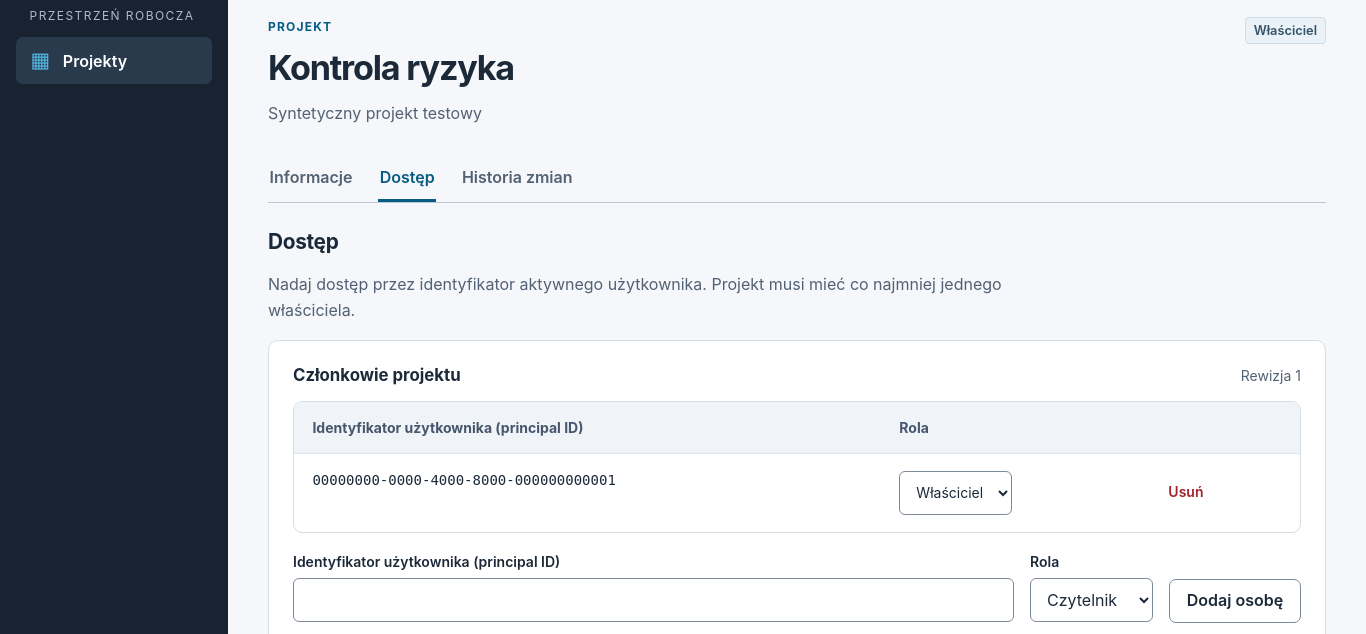
Test case: SPEC-0001 access policy and SPEC-0017 conflict/revocation UI › sends owner access update with the received ETag, and refuses removal of the last owner locally
Type "00000000-0000-4000-8000-000000000002" into the field labelled "Identyfikator użytkownika (principal ID)".
click(654, 600); type("00000000-0000-4000-8000-000000000002")  # box [293,578,1014,622]
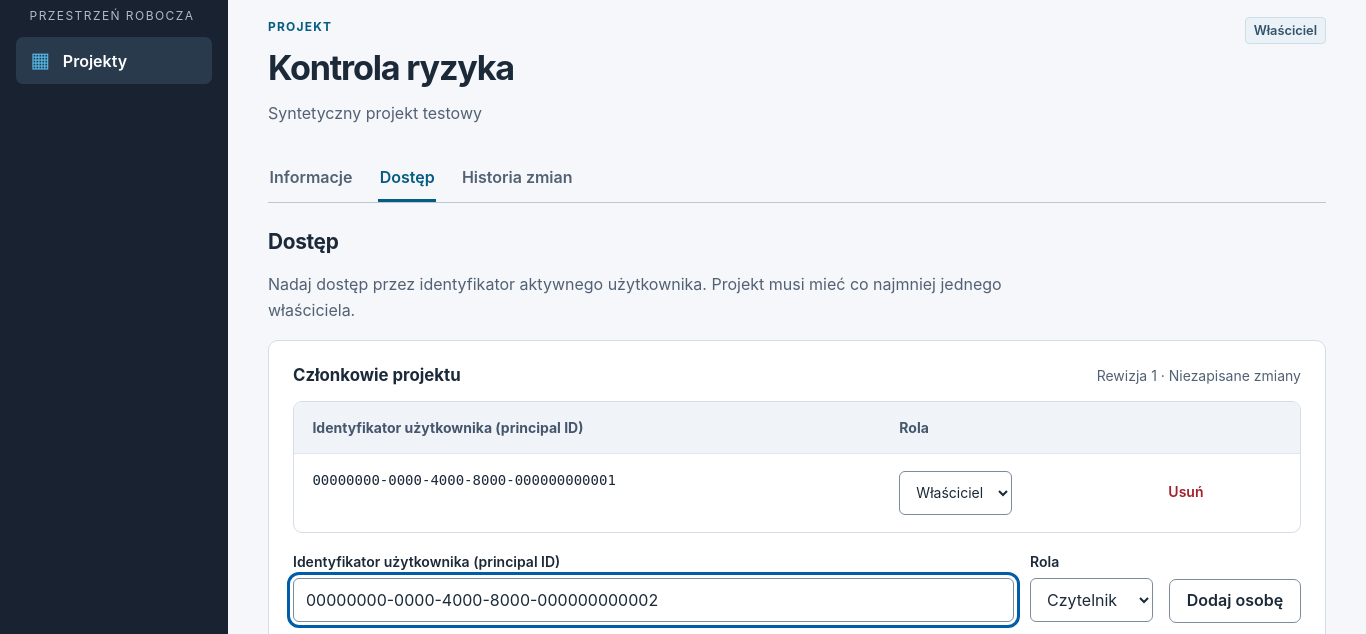
Click the button "Dodaj osobę".
click(1235, 601)  # box [1169,579,1301,623]
(page scrolled)
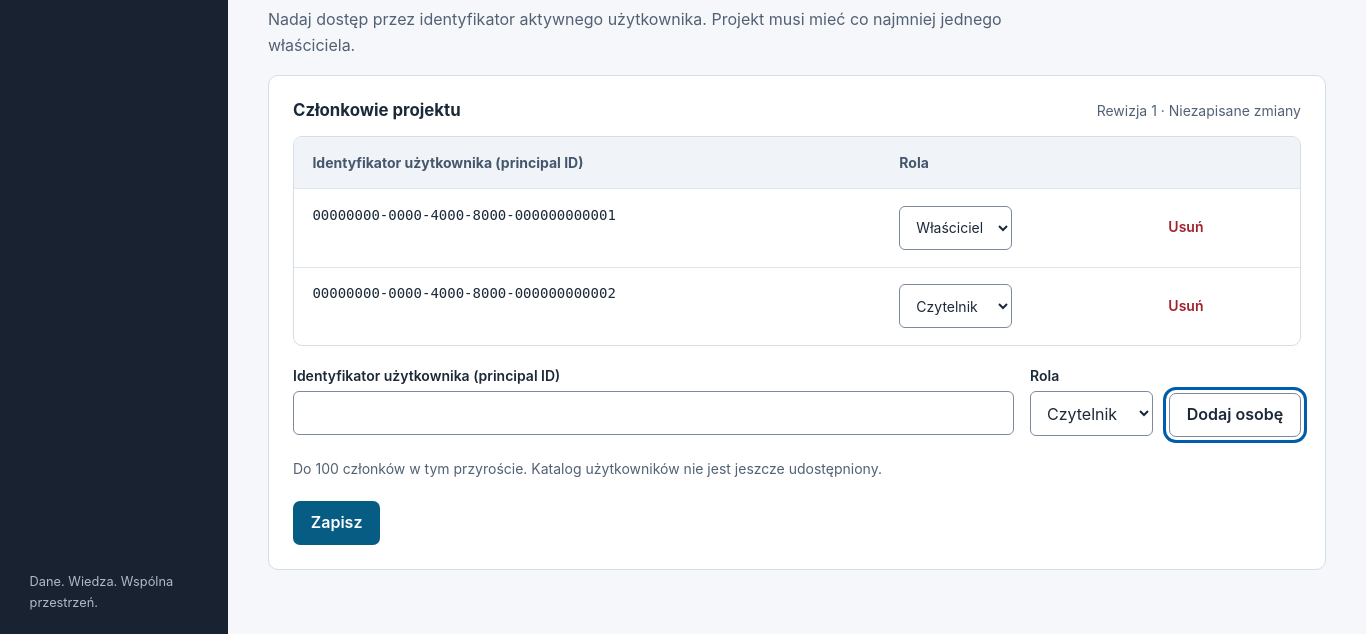
Click the button "Zapisz".
click(337, 523)  # box [293,501,380,545]
(page scrolled)
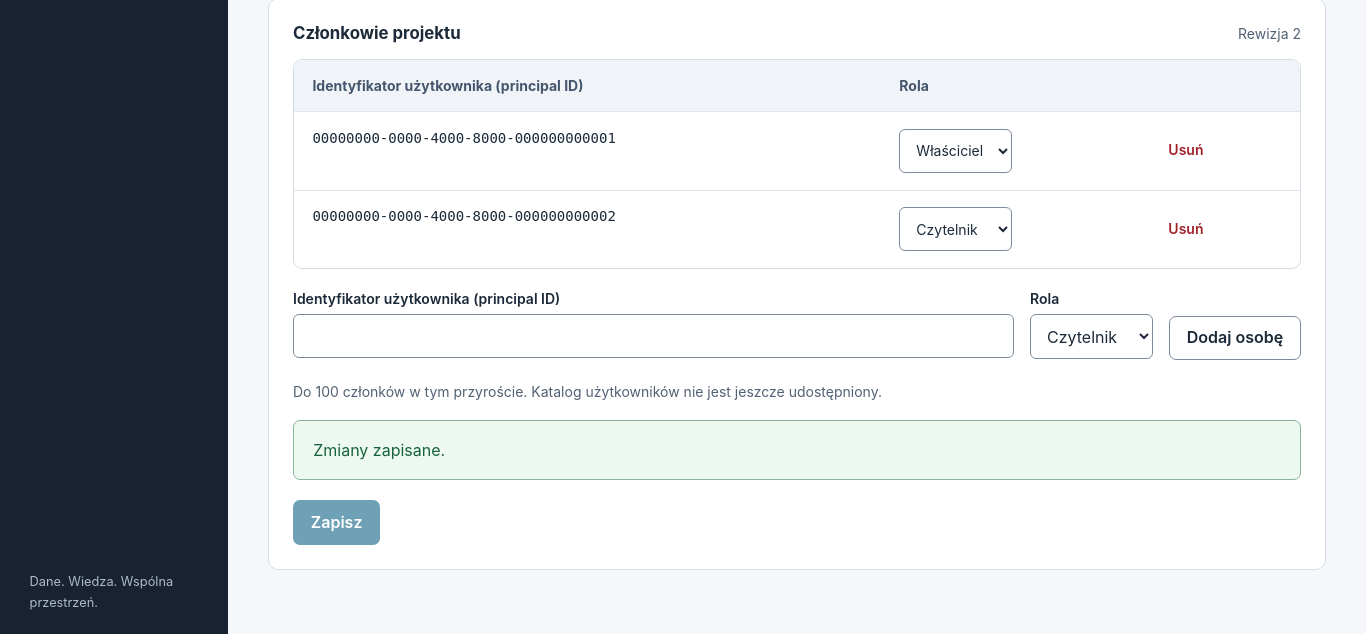
Check: the text "Zmiany zapisane." is shown, box [293,420,1301,480]
Click the button "Usuń" in the row of "00000000-0000-4000-8000-000000000001".
click(1186, 151)  # box [1158,129,1214,173]
(page scrolled)
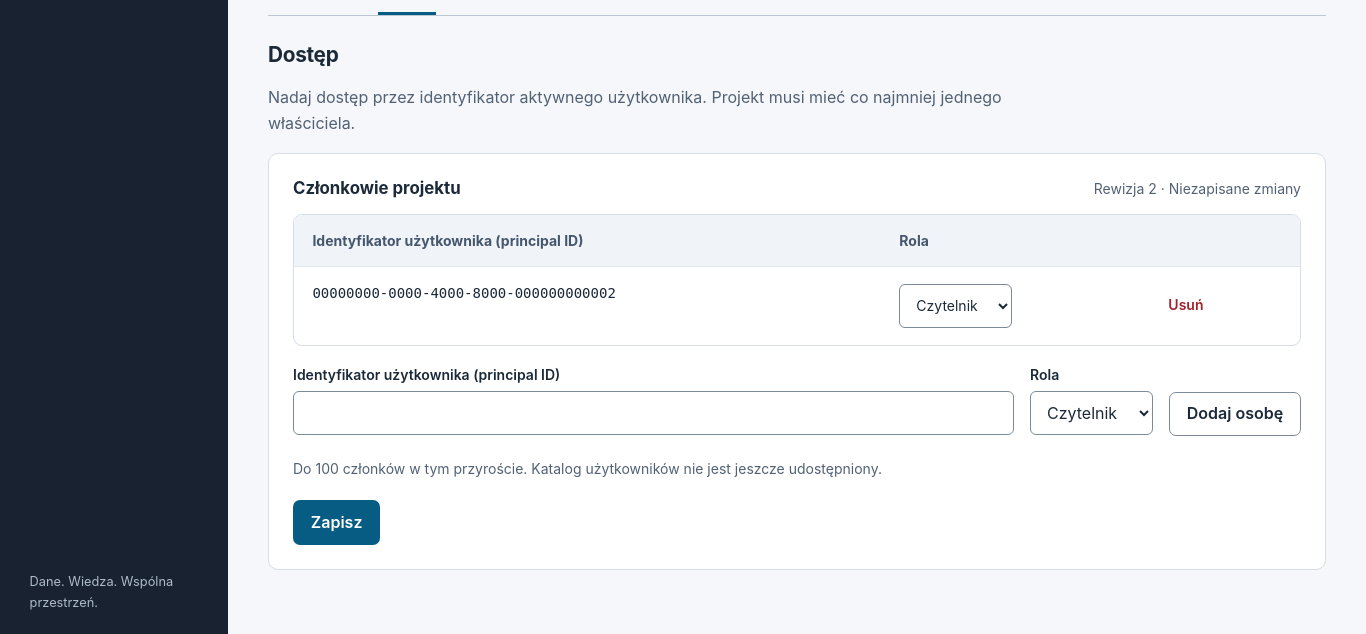
Click the button "Zapisz".
click(337, 522)  # box [293,500,380,545]
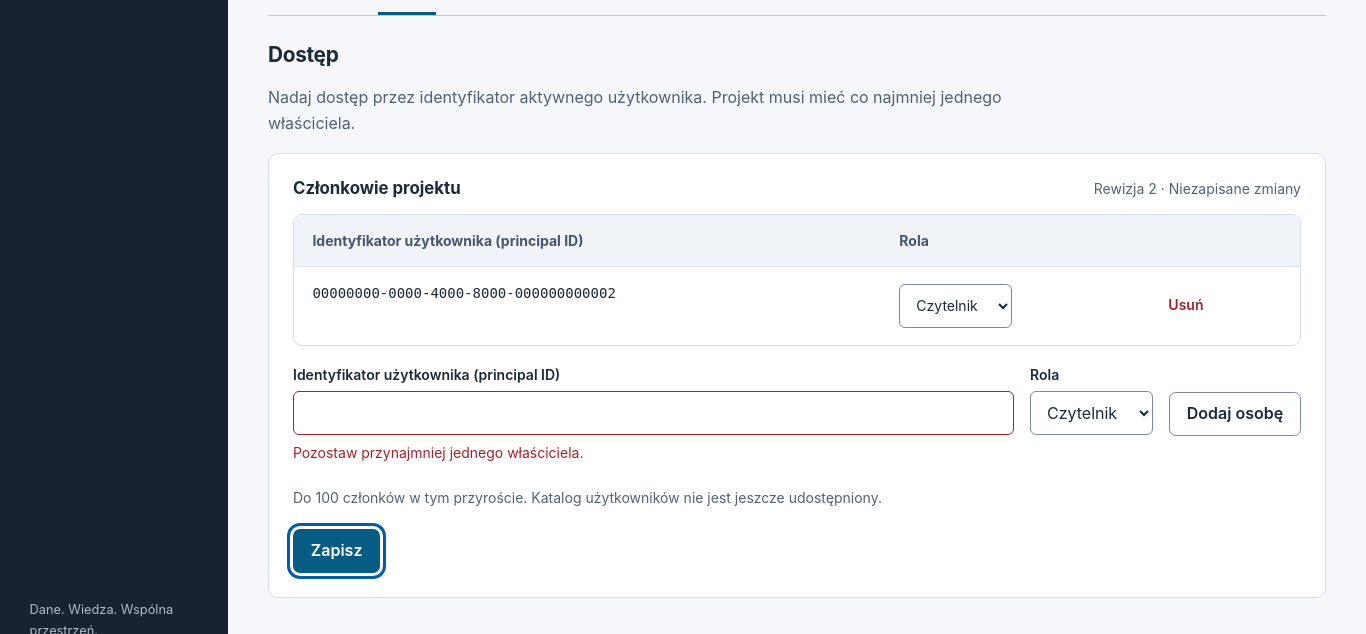
Check: the text "Pozostaw przynajmniej jednego właściciela." is shown, box [293,444,584,461]
